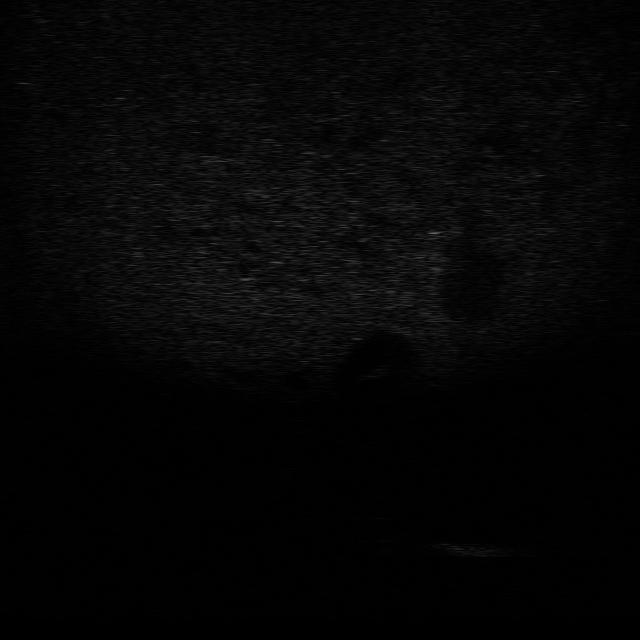ball: (277, 414, 315, 437)
metal bucket: (426, 538, 525, 560)
tyre: (342, 513, 410, 546)
